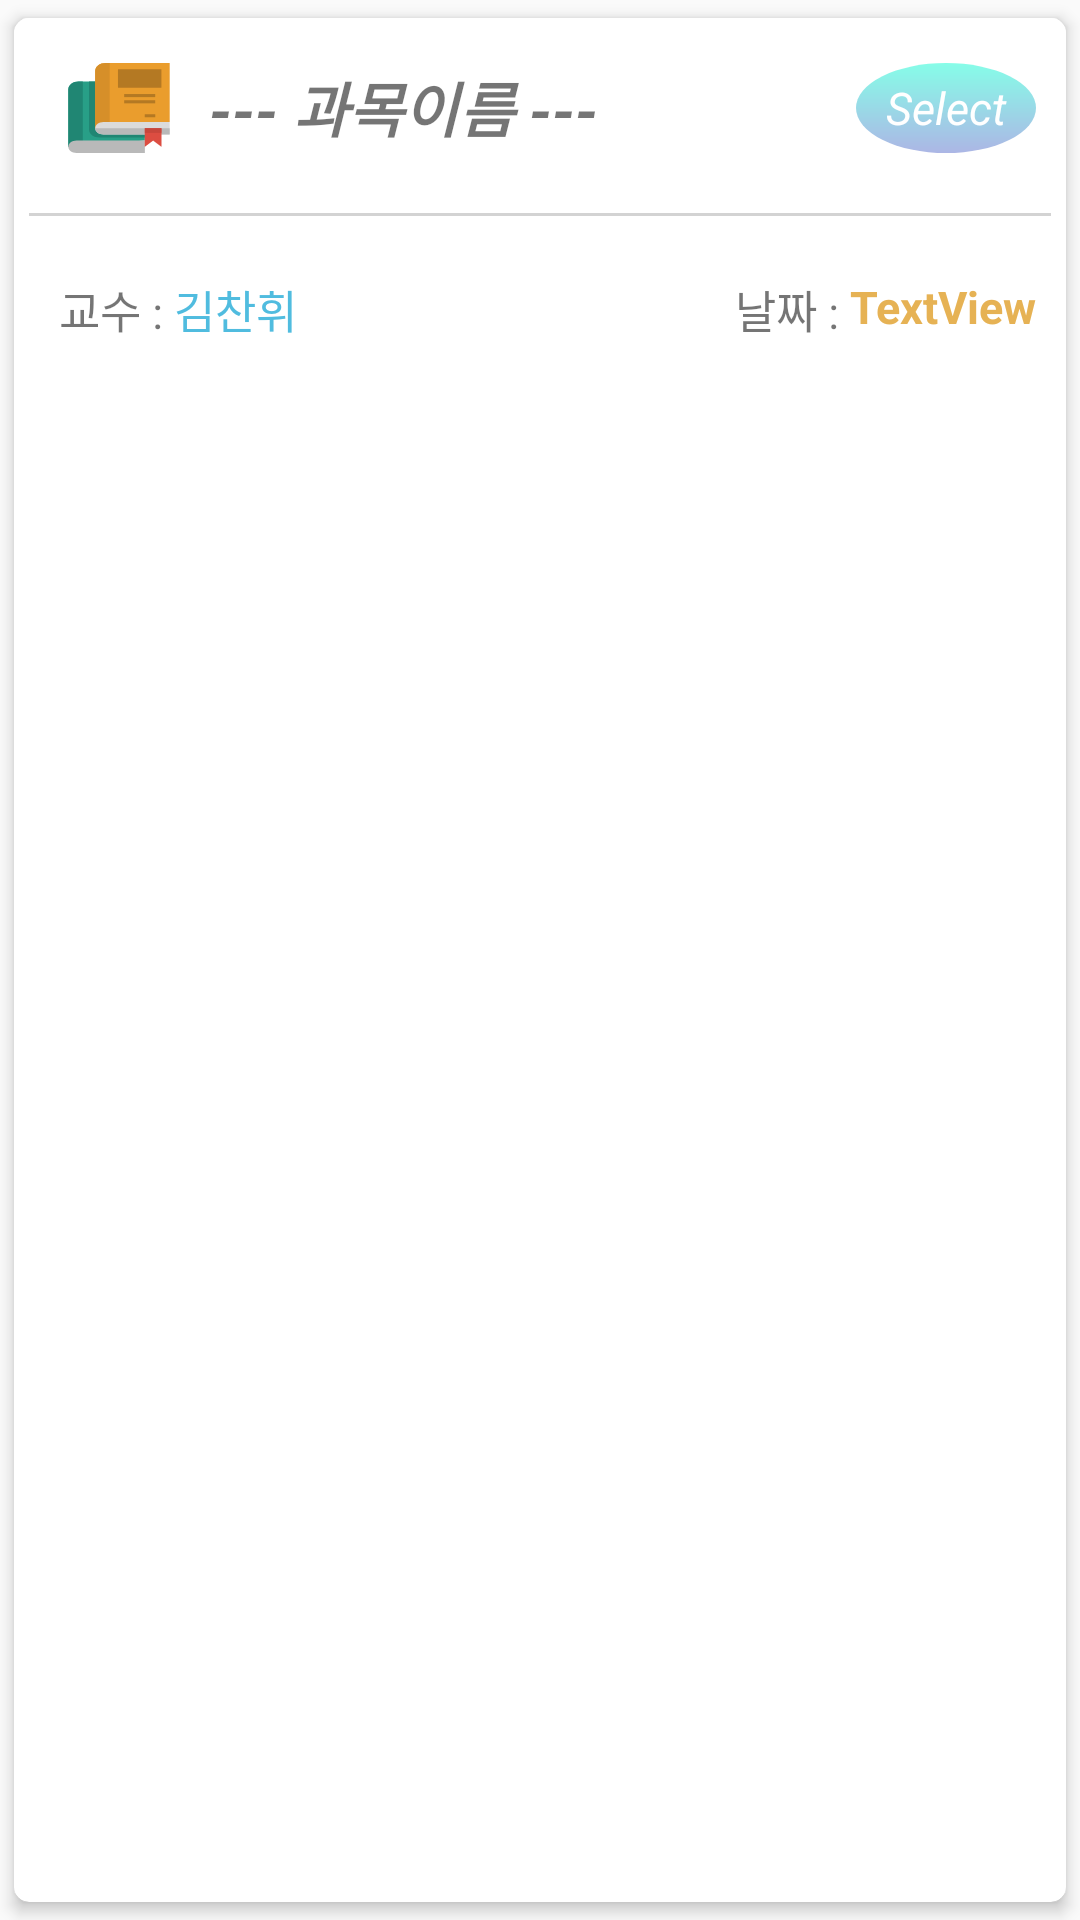

Where to tap for icons on this 1080w x 1920h app screen, as point (x, y):
book: point (119, 108)
